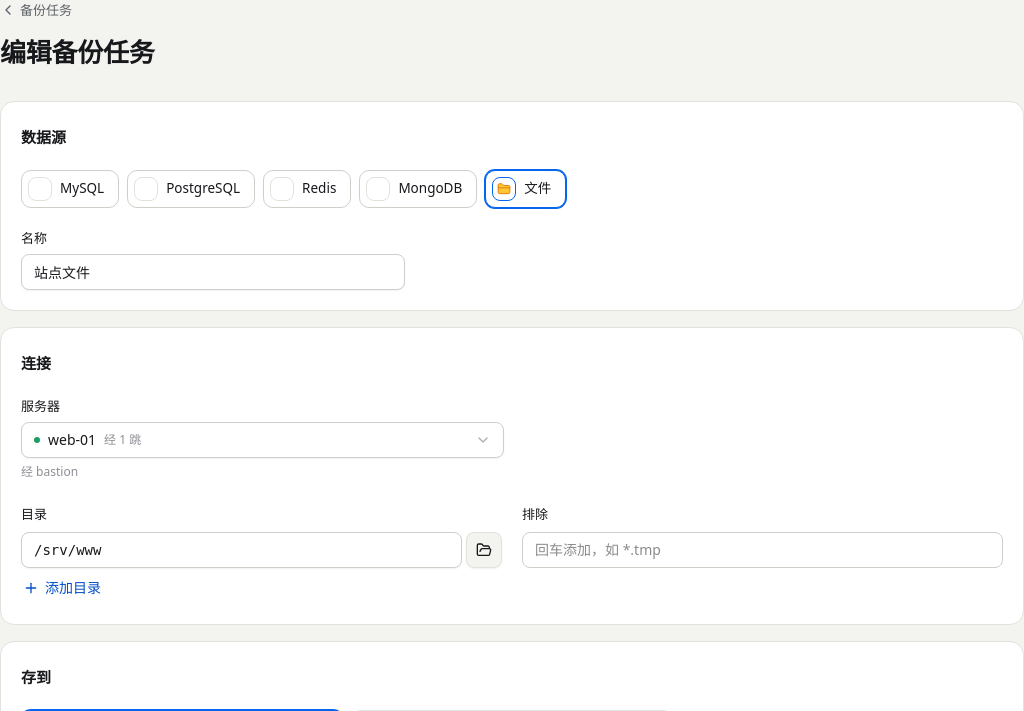
Test: 目录浏览 › 浏览、进入子目录并选中，写回路径并显示已确认
Click the button named "浏览目录 1": (484,550) [466, 532, 502, 568]
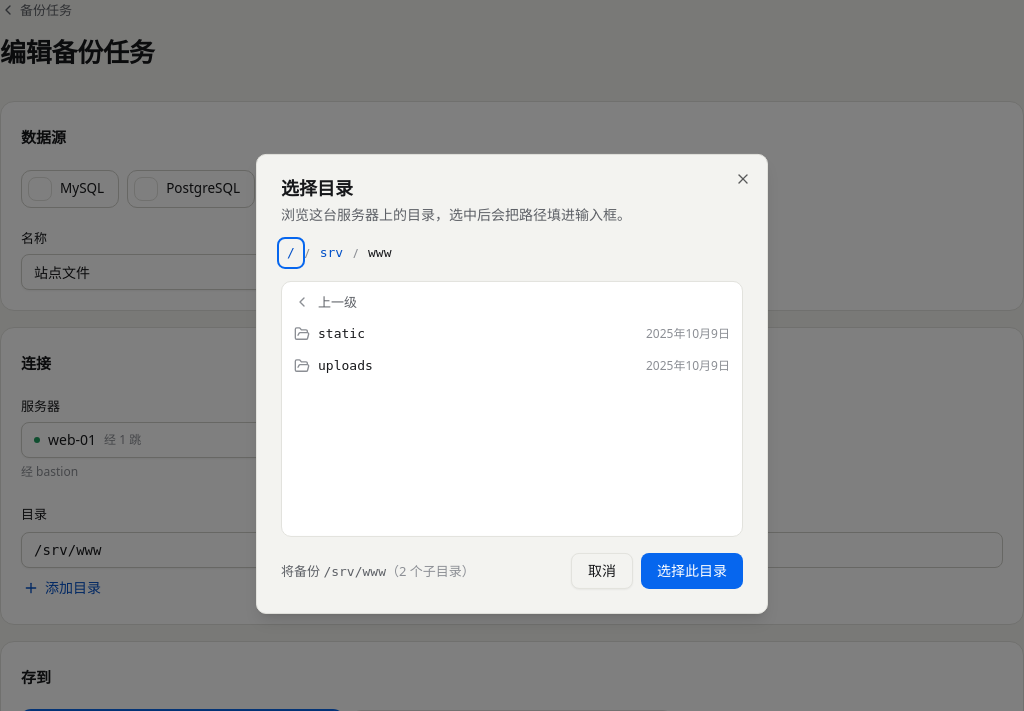
expect the button "uploads 2025年10月9日" is shown: met
Click the button "uploads 2025年10月9日": (345,366) [286, 350, 738, 382]
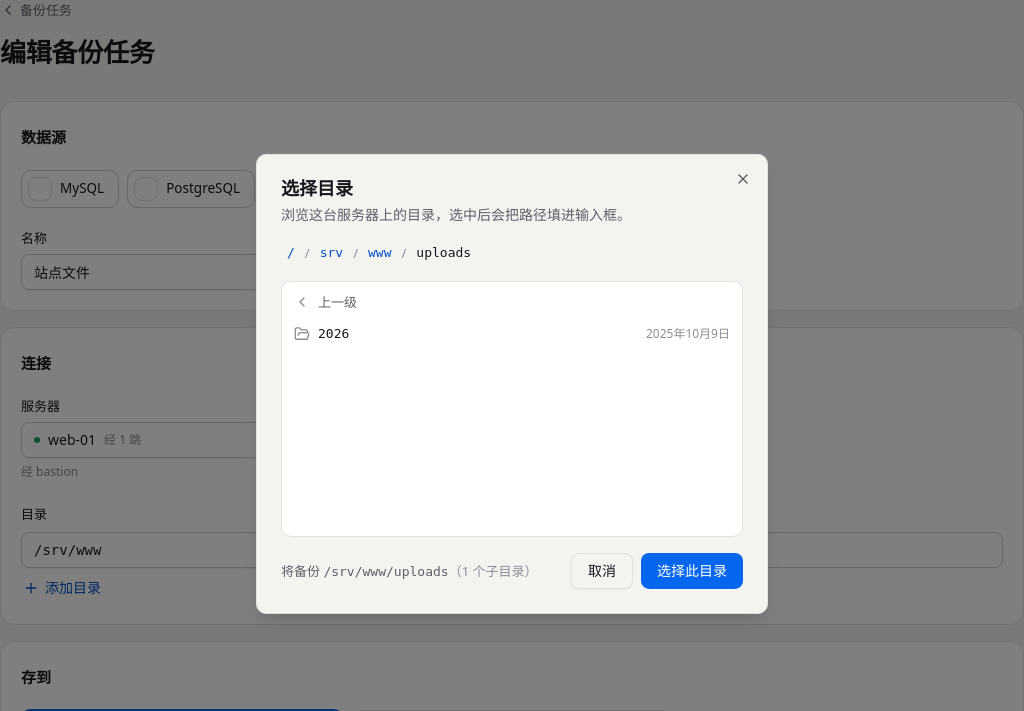
Click the button "2026 2025年10月9日": (334,334) [286, 318, 738, 350]
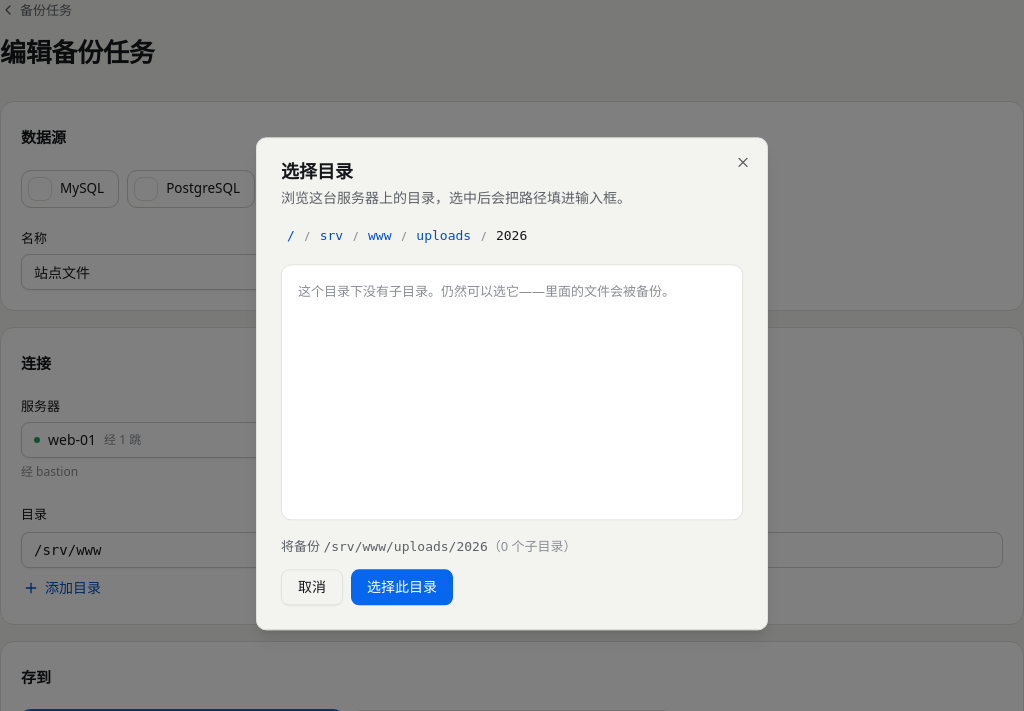
expect the text "这个目录下没有子目录。仍然可以选它——里面的文件会被备份。" is shown: met, box [298, 282, 675, 300]
Click the button "选择此目录": (402,588) [351, 570, 453, 606]
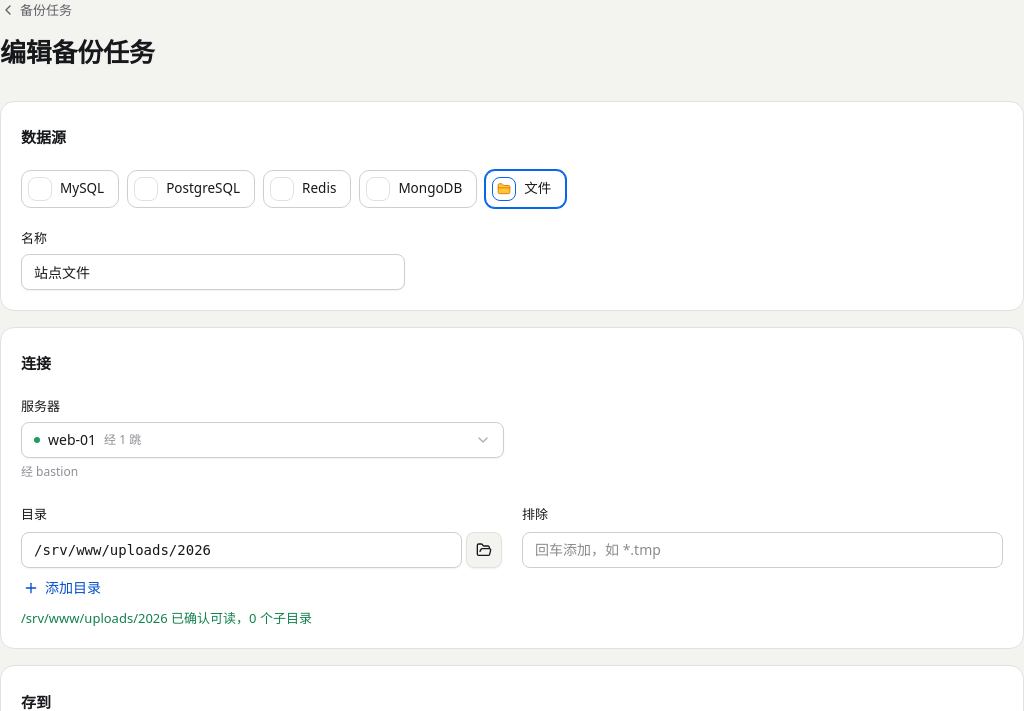
expect the field named "目录 1" holds "/srv/www/uploads/2026": met, box [21, 532, 462, 568]
expect the text "/srv/www/uploads/2026 已确认可读，0 个子目录" is shown: met, box [21, 609, 312, 627]
